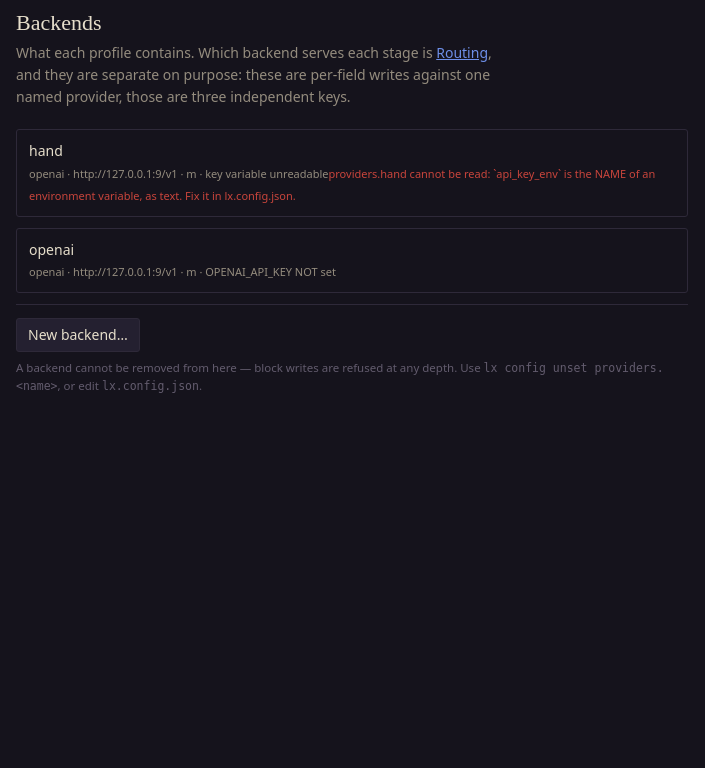
Test case: a masked key variable › is named as unreadable in the list and in the editor, never as an empty name
Expected: the text "openai · http://127.0.0.1:9/v1 · m · key variable unreadable" is shown, [29,166,328,181]
Expected: the text "openai · http://127.0.0.1:9/v1 · m · OPENAI_API_KEY NOT set" is shown, [29,264,336,279]
Step 1. Click the text "hand" → x=46, y=151, box [29,142,63,160]
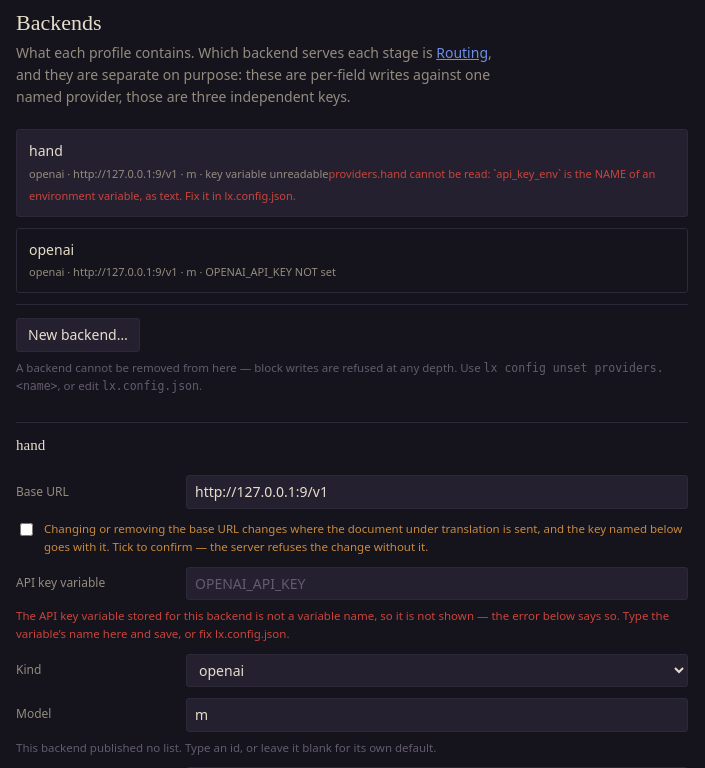
Result: the text "is not a variable name, so it is not shown" shows "Type the variable’s name here and save" at [16,608,669,641]
